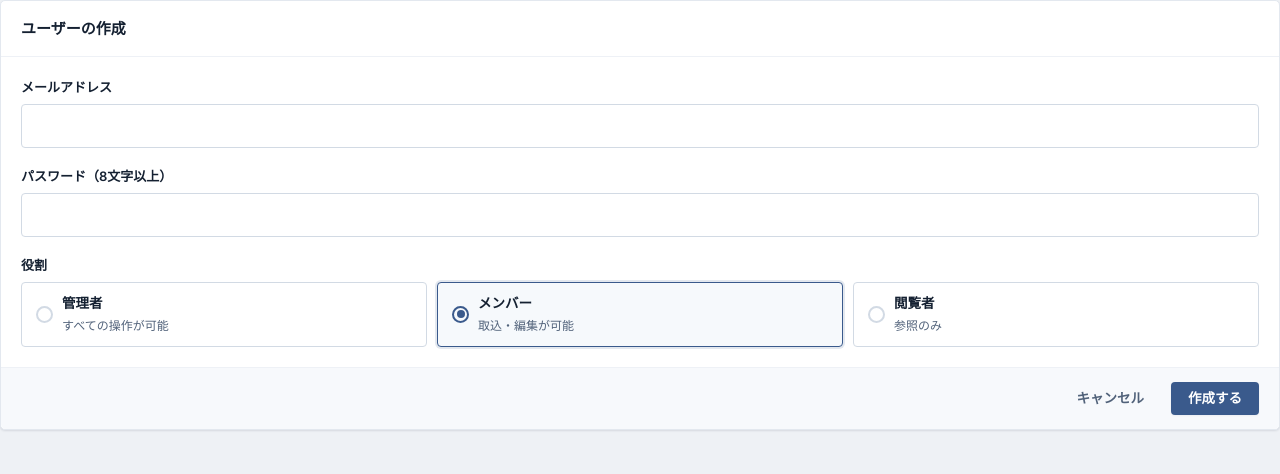
CreateUserForm › blocks a short password
Type "op@example.com" into the field labelled "メールアドレス" at point(640, 126), box [21,104,1259,148]
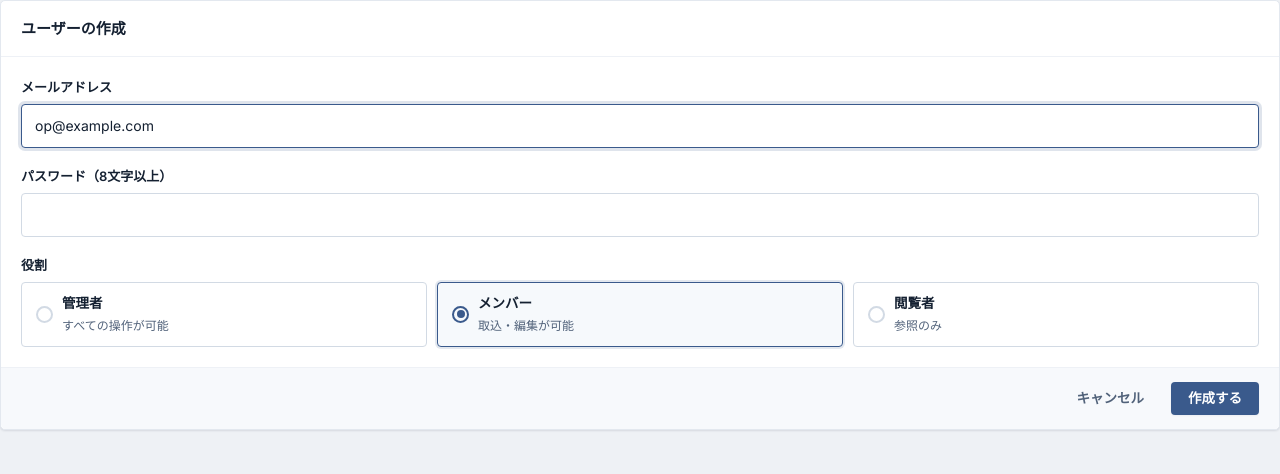
Type "short" into the password field labelled "パスワード（8文字以上）" at point(640, 215), box [21,193,1259,237]
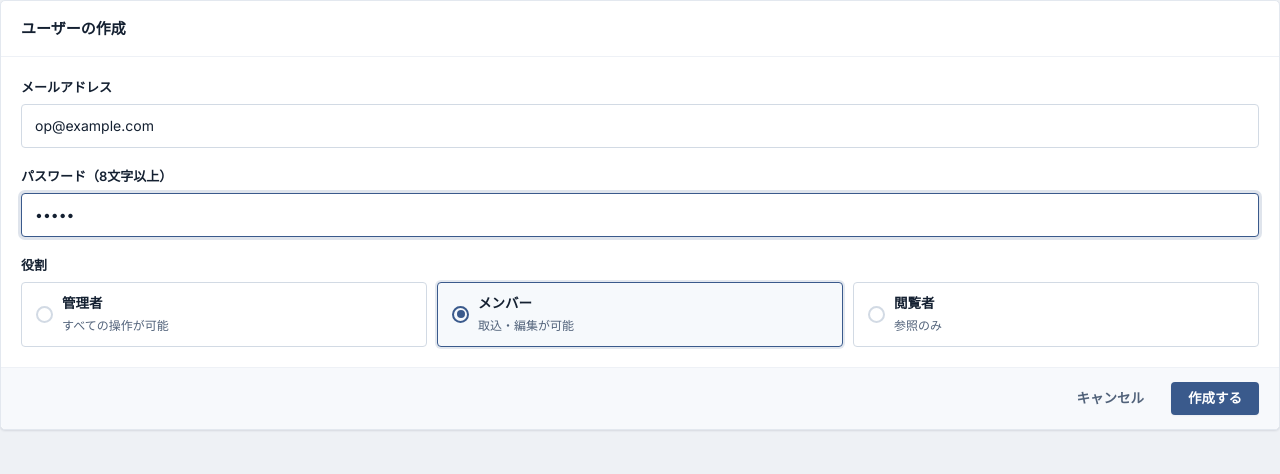
Click the button with test id "user-create-submit" at point(1215, 398), box [1171,382,1259,415]
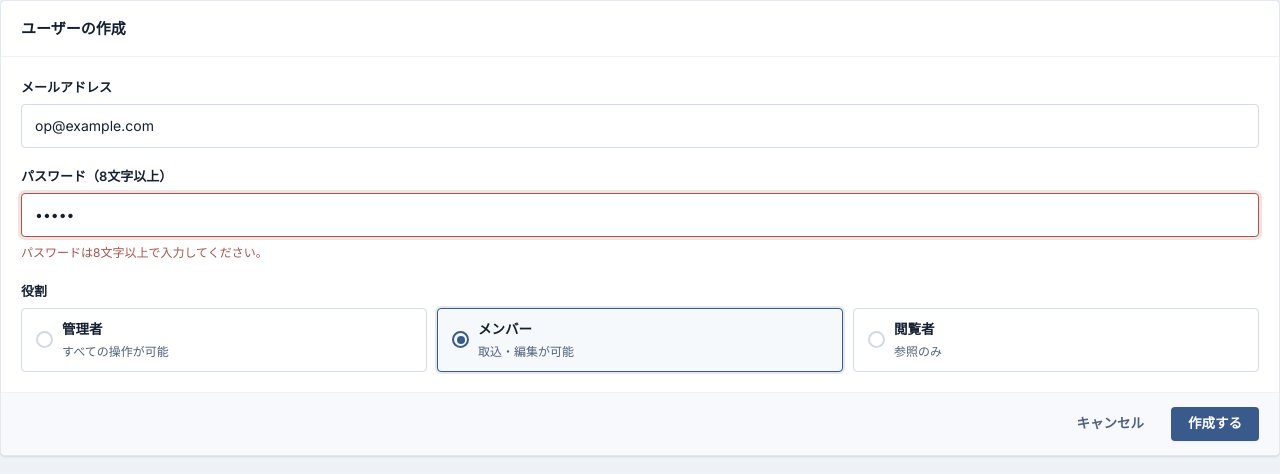
Now the text "パスワードは8文字以上で入力してください。" is shown, box [21,245,268,260]
